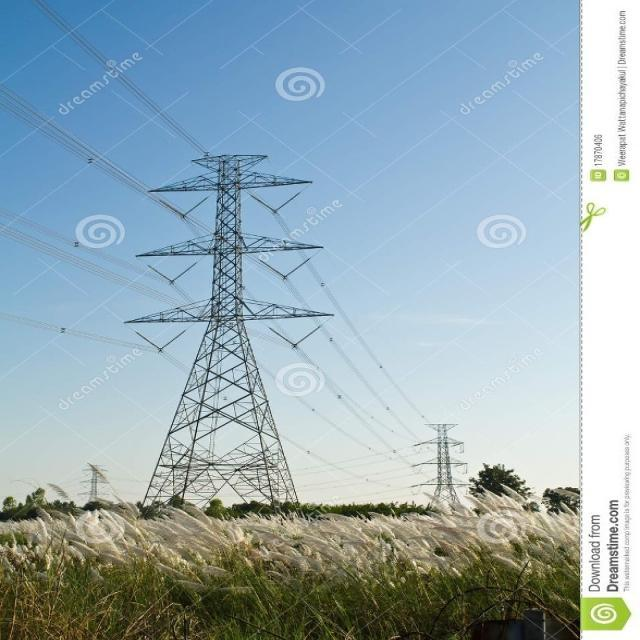non-critical vegetation: (122, 148, 330, 513), (404, 418, 472, 508)
